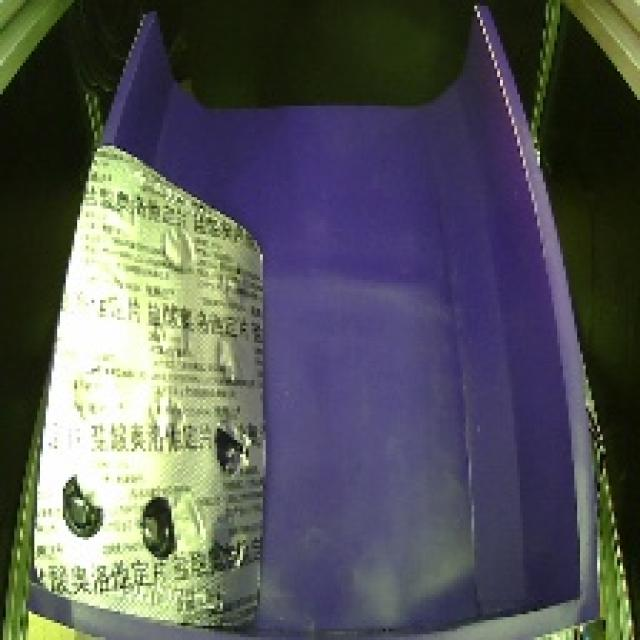med_plate: (19, 128, 292, 640)
